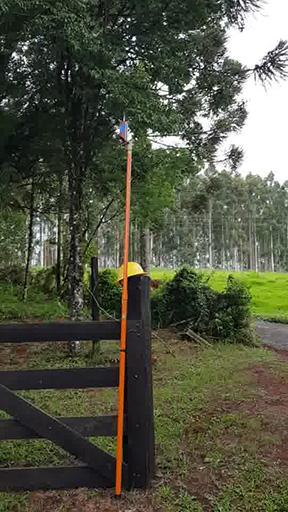Vara_Manobra: (113, 144, 134, 496)
